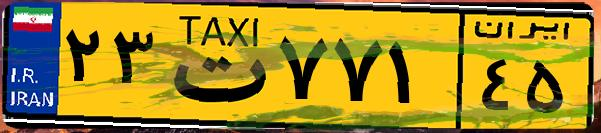1: (385, 28, 445, 110)
2: (57, 26, 110, 100)
3: (110, 28, 158, 98)
4: (475, 38, 525, 113)
5: (525, 38, 570, 115)
7: (270, 28, 330, 110), (330, 28, 385, 110)
ت: (158, 12, 270, 120)
